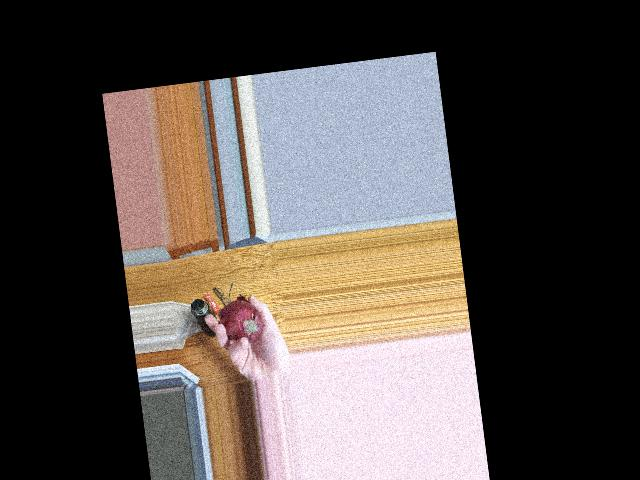onion: (221, 301, 264, 345)
